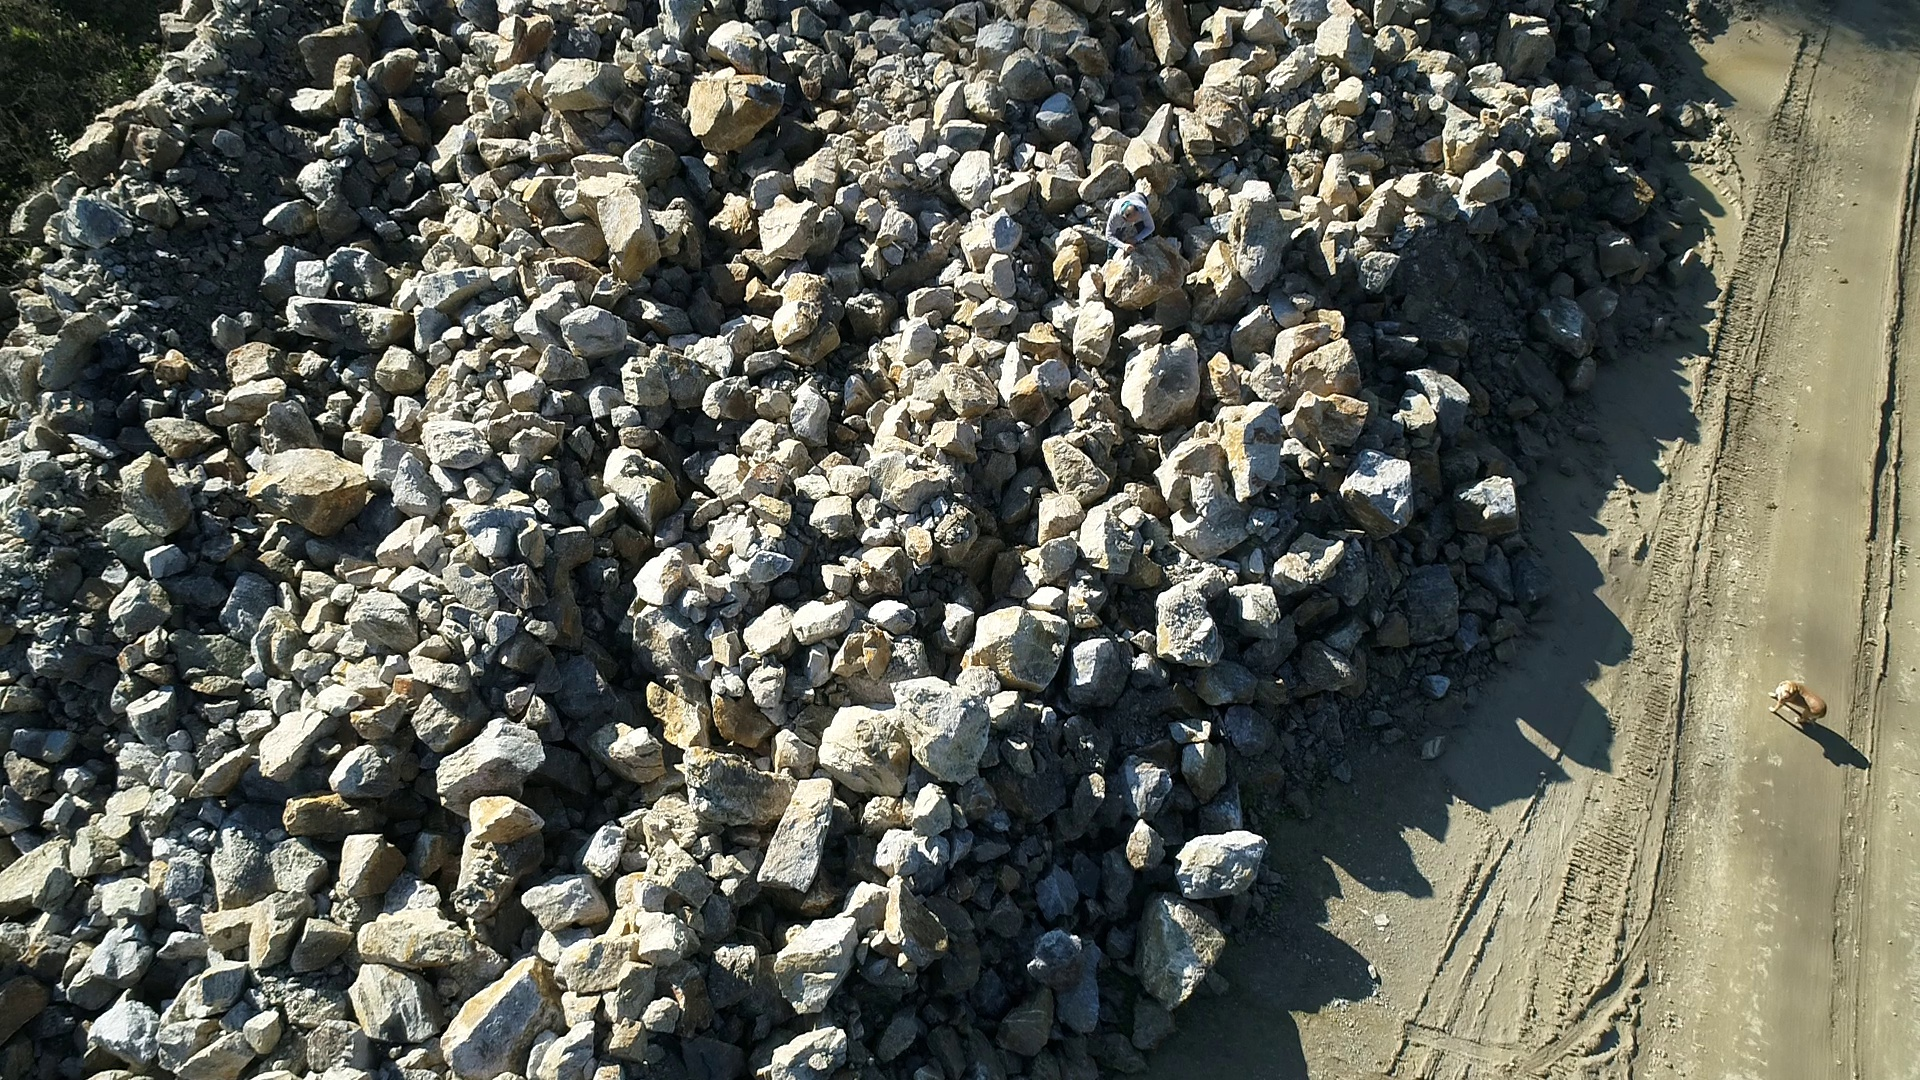not_defined: (1106, 191, 1156, 258)
